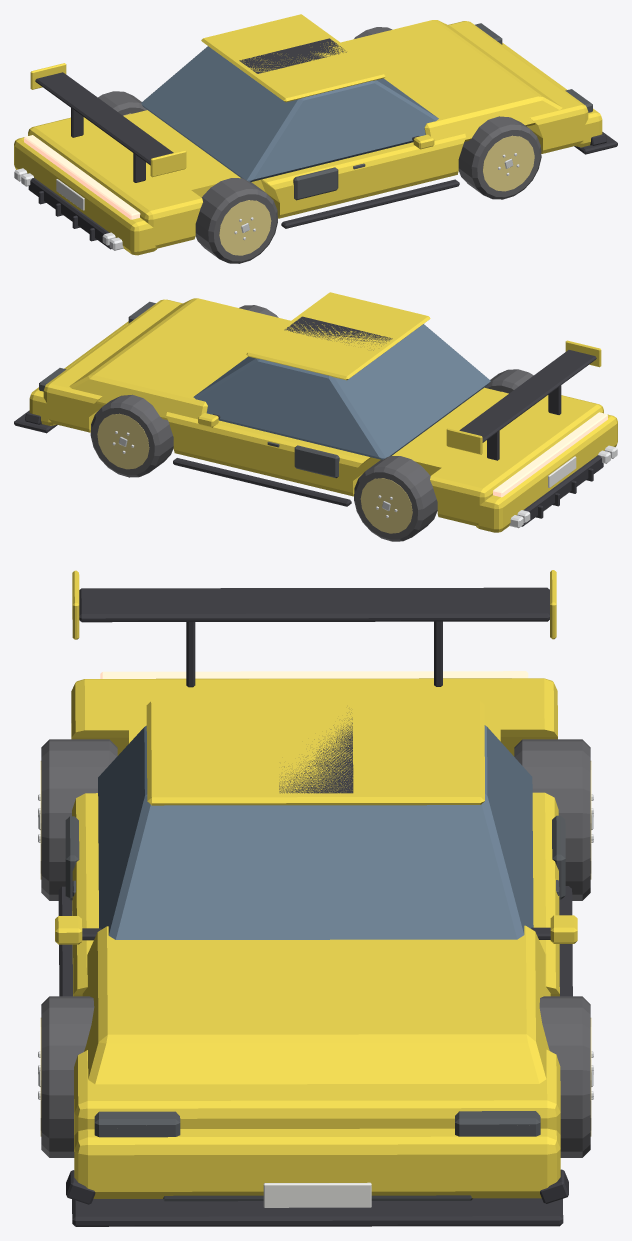
The model's file is SportsCar.fbx.
The picture shows the model from 3 angles, top to bottom: view 1: azimuth 30°, elevation 25°; view 2: azimuth 150°, elevation 25°; view 3: azimuth 270°, elevation 25°; orthographic projection. The views are drawn at different scales.
Visible parts, largest first — view 1: SportsCar_Body, SportsCar_Wheel_RR, SportsCar_Wheel_FR, SportsCar_Wheel_RL; view 2: SportsCar_Body, SportsCar_Wheel_RL, SportsCar_Wheel_FL, SportsCar_Wheel_RR; view 3: SportsCar_Body, SportsCar_Wheel_RL, SportsCar_Wheel_RR, SportsCar_Wheel_FR, SportsCar_Wheel_FL.
Boxes of the visible parts, left/top/right/bottom form: SportsCar_Body: left=14, top=14, right=617, bottom=255; SportsCar_Wheel_RR: left=195, top=178, right=277, bottom=263; SportsCar_Wheel_FR: left=458, top=116, right=541, bottom=199; SportsCar_Wheel_RL: left=98, top=91, right=146, bottom=115; SportsCar_Body: left=14, top=292, right=617, bottom=532; SportsCar_Wheel_RL: left=354, top=456, right=437, bottom=541; SportsCar_Wheel_FL: left=90, top=394, right=173, bottom=477; SportsCar_Wheel_RR: left=485, top=369, right=533, bottom=393; SportsCar_Body: left=55, top=570, right=577, bottom=1226; SportsCar_Wheel_RL: left=514, top=739, right=593, bottom=900; SportsCar_Wheel_RR: left=38, top=739, right=117, bottom=900; SportsCar_Wheel_FR: left=38, top=996, right=94, bottom=1157; SportsCar_Wheel_FL: left=539, top=996, right=593, bottom=1157.
Size of the model in its own units: 507 by 127 by 247.
